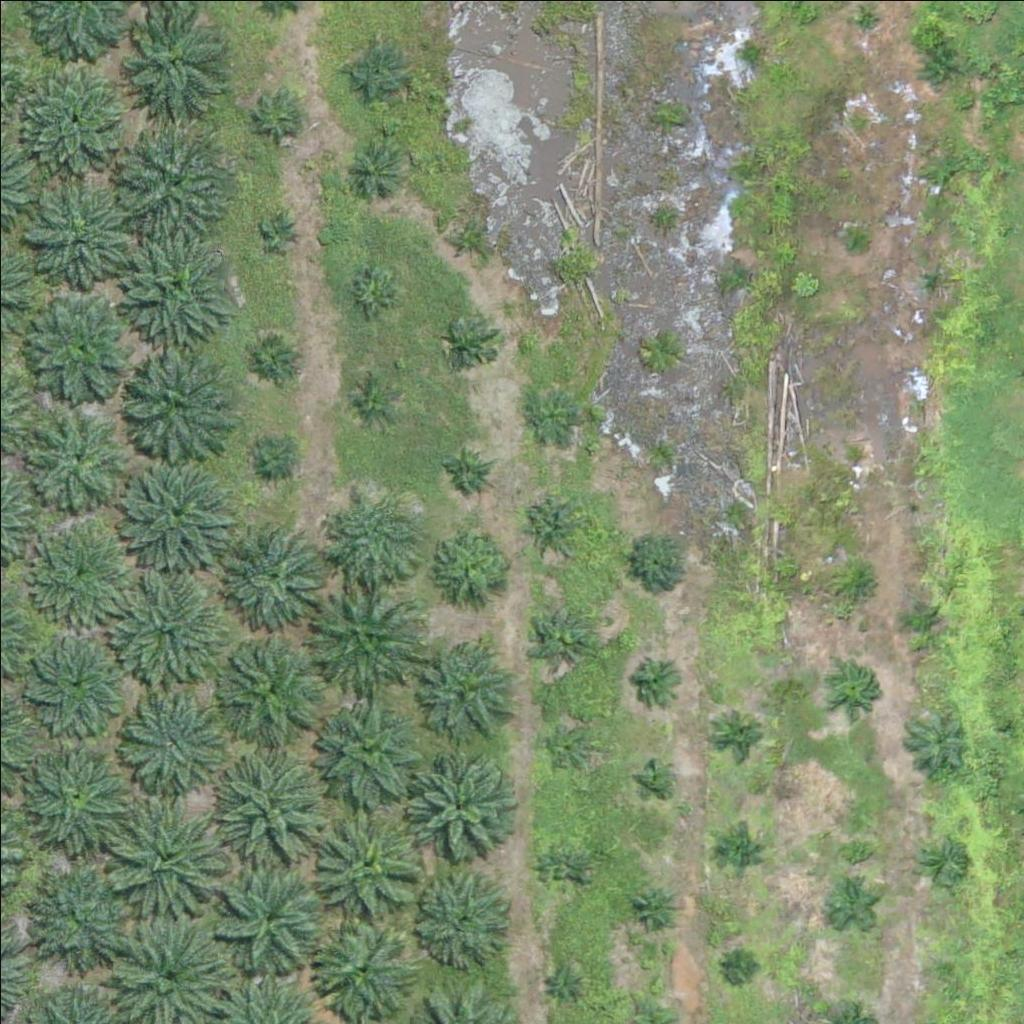Kelapa_Sawit: (209, 745, 334, 871), (102, 797, 227, 923), (106, 572, 219, 686), (217, 861, 330, 974), (220, 517, 333, 630), (116, 228, 229, 341), (115, 126, 228, 239), (115, 11, 228, 124), (28, 517, 141, 630), (215, 628, 327, 742), (307, 572, 419, 686), (311, 688, 423, 802), (308, 805, 420, 919), (19, 740, 131, 853), (119, 451, 231, 564), (119, 339, 231, 452), (22, 290, 134, 403), (15, 405, 127, 518), (312, 920, 412, 1021), (28, 624, 128, 725), (116, 684, 216, 785), (18, 71, 118, 172), (22, 185, 122, 286), (40, 861, 140, 961), (407, 755, 507, 855), (419, 629, 519, 729), (430, 518, 517, 606), (415, 871, 502, 959), (330, 491, 417, 579), (519, 491, 582, 554), (905, 708, 968, 771), (624, 532, 687, 595), (526, 601, 588, 664), (341, 137, 403, 200), (342, 40, 404, 103), (432, 439, 494, 502), (715, 707, 765, 758), (631, 653, 681, 704), (251, 92, 301, 143), (897, 594, 947, 645), (835, 559, 885, 610), (525, 385, 575, 435), (449, 321, 499, 371), (533, 842, 583, 892), (713, 825, 763, 875), (825, 880, 875, 930), (918, 837, 968, 887), (830, 662, 880, 712), (347, 265, 397, 315), (346, 374, 396, 424), (544, 723, 594, 773), (628, 883, 678, 933), (249, 433, 299, 483), (248, 330, 298, 380), (636, 760, 674, 798), (444, 219, 482, 257), (261, 210, 299, 248), (919, 45, 957, 83), (923, 154, 961, 192), (915, 260, 952, 298), (551, 967, 576, 992), (728, 953, 753, 978), (929, 960, 954, 985), (842, 233, 867, 258), (845, 442, 870, 467)
